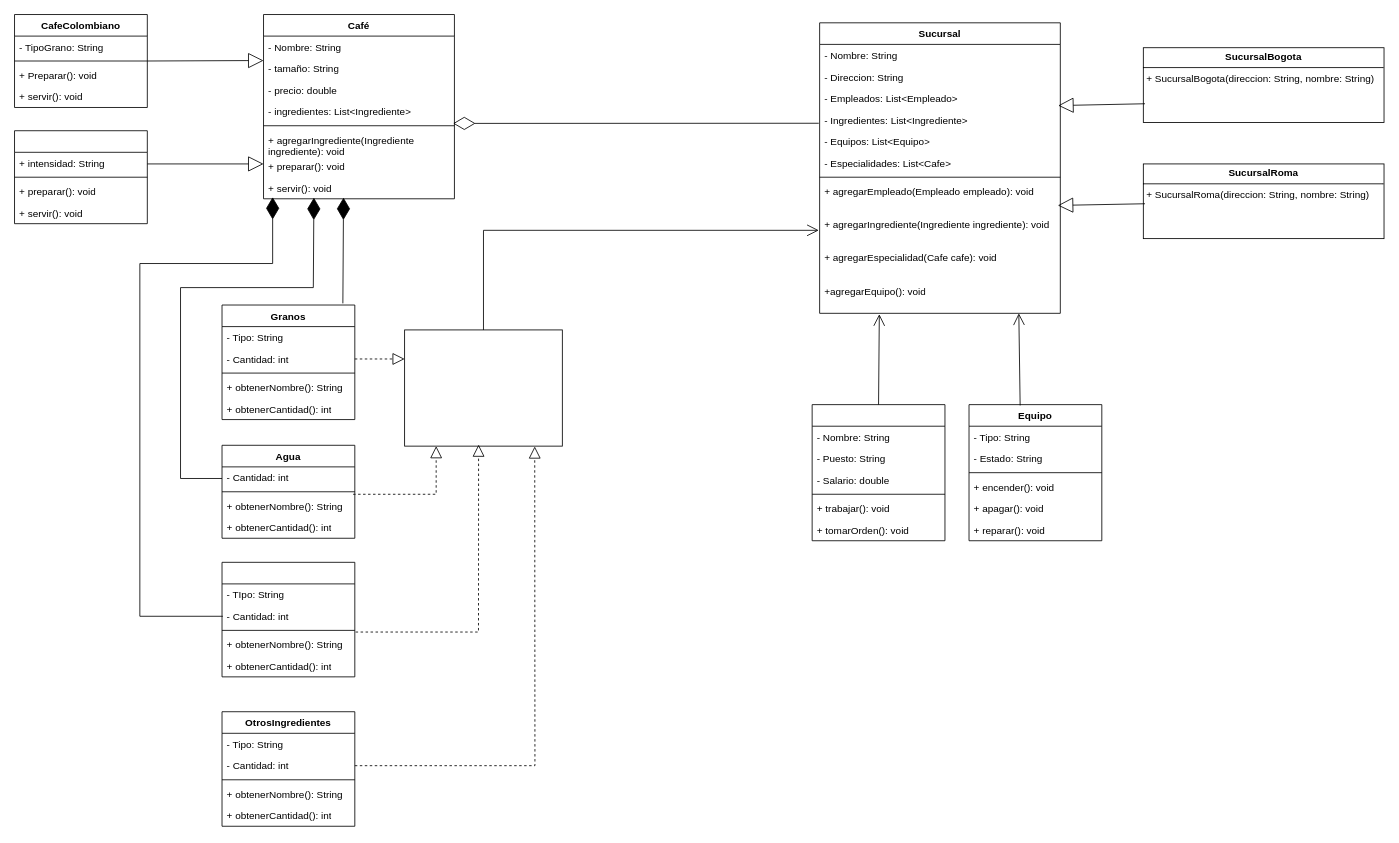
Image size: 1399x843. Some labels were removed from this diagram. The box of each missing label's shape, as (x1, y1, x2, y2) in pixels:
<<Interface>> Ingrediente + obtenerNombre(): String + obtenerCantidad(): int: (404, 329, 562, 446)
Empleado: (811, 404, 945, 541)
EspressoItaliano: (14, 130, 147, 224)
Leche: (221, 561, 355, 677)
